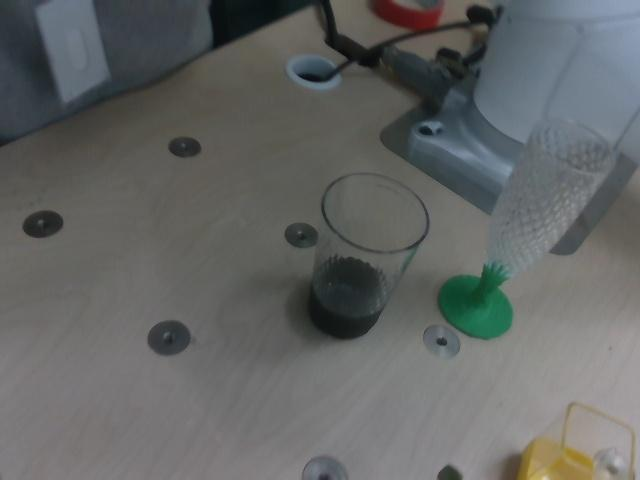black_cup: (307, 255, 391, 338)
green_cup: (438, 264, 513, 340)
yellow_cup: (516, 437, 596, 480)
